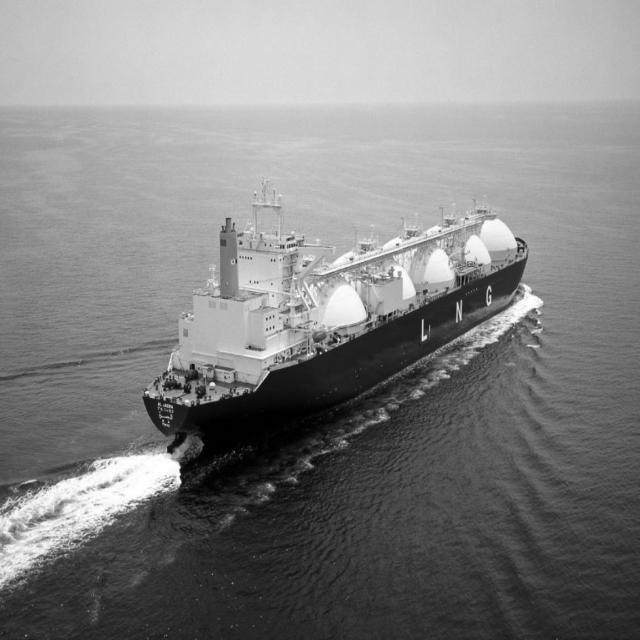LNG: (132, 170, 532, 481)
